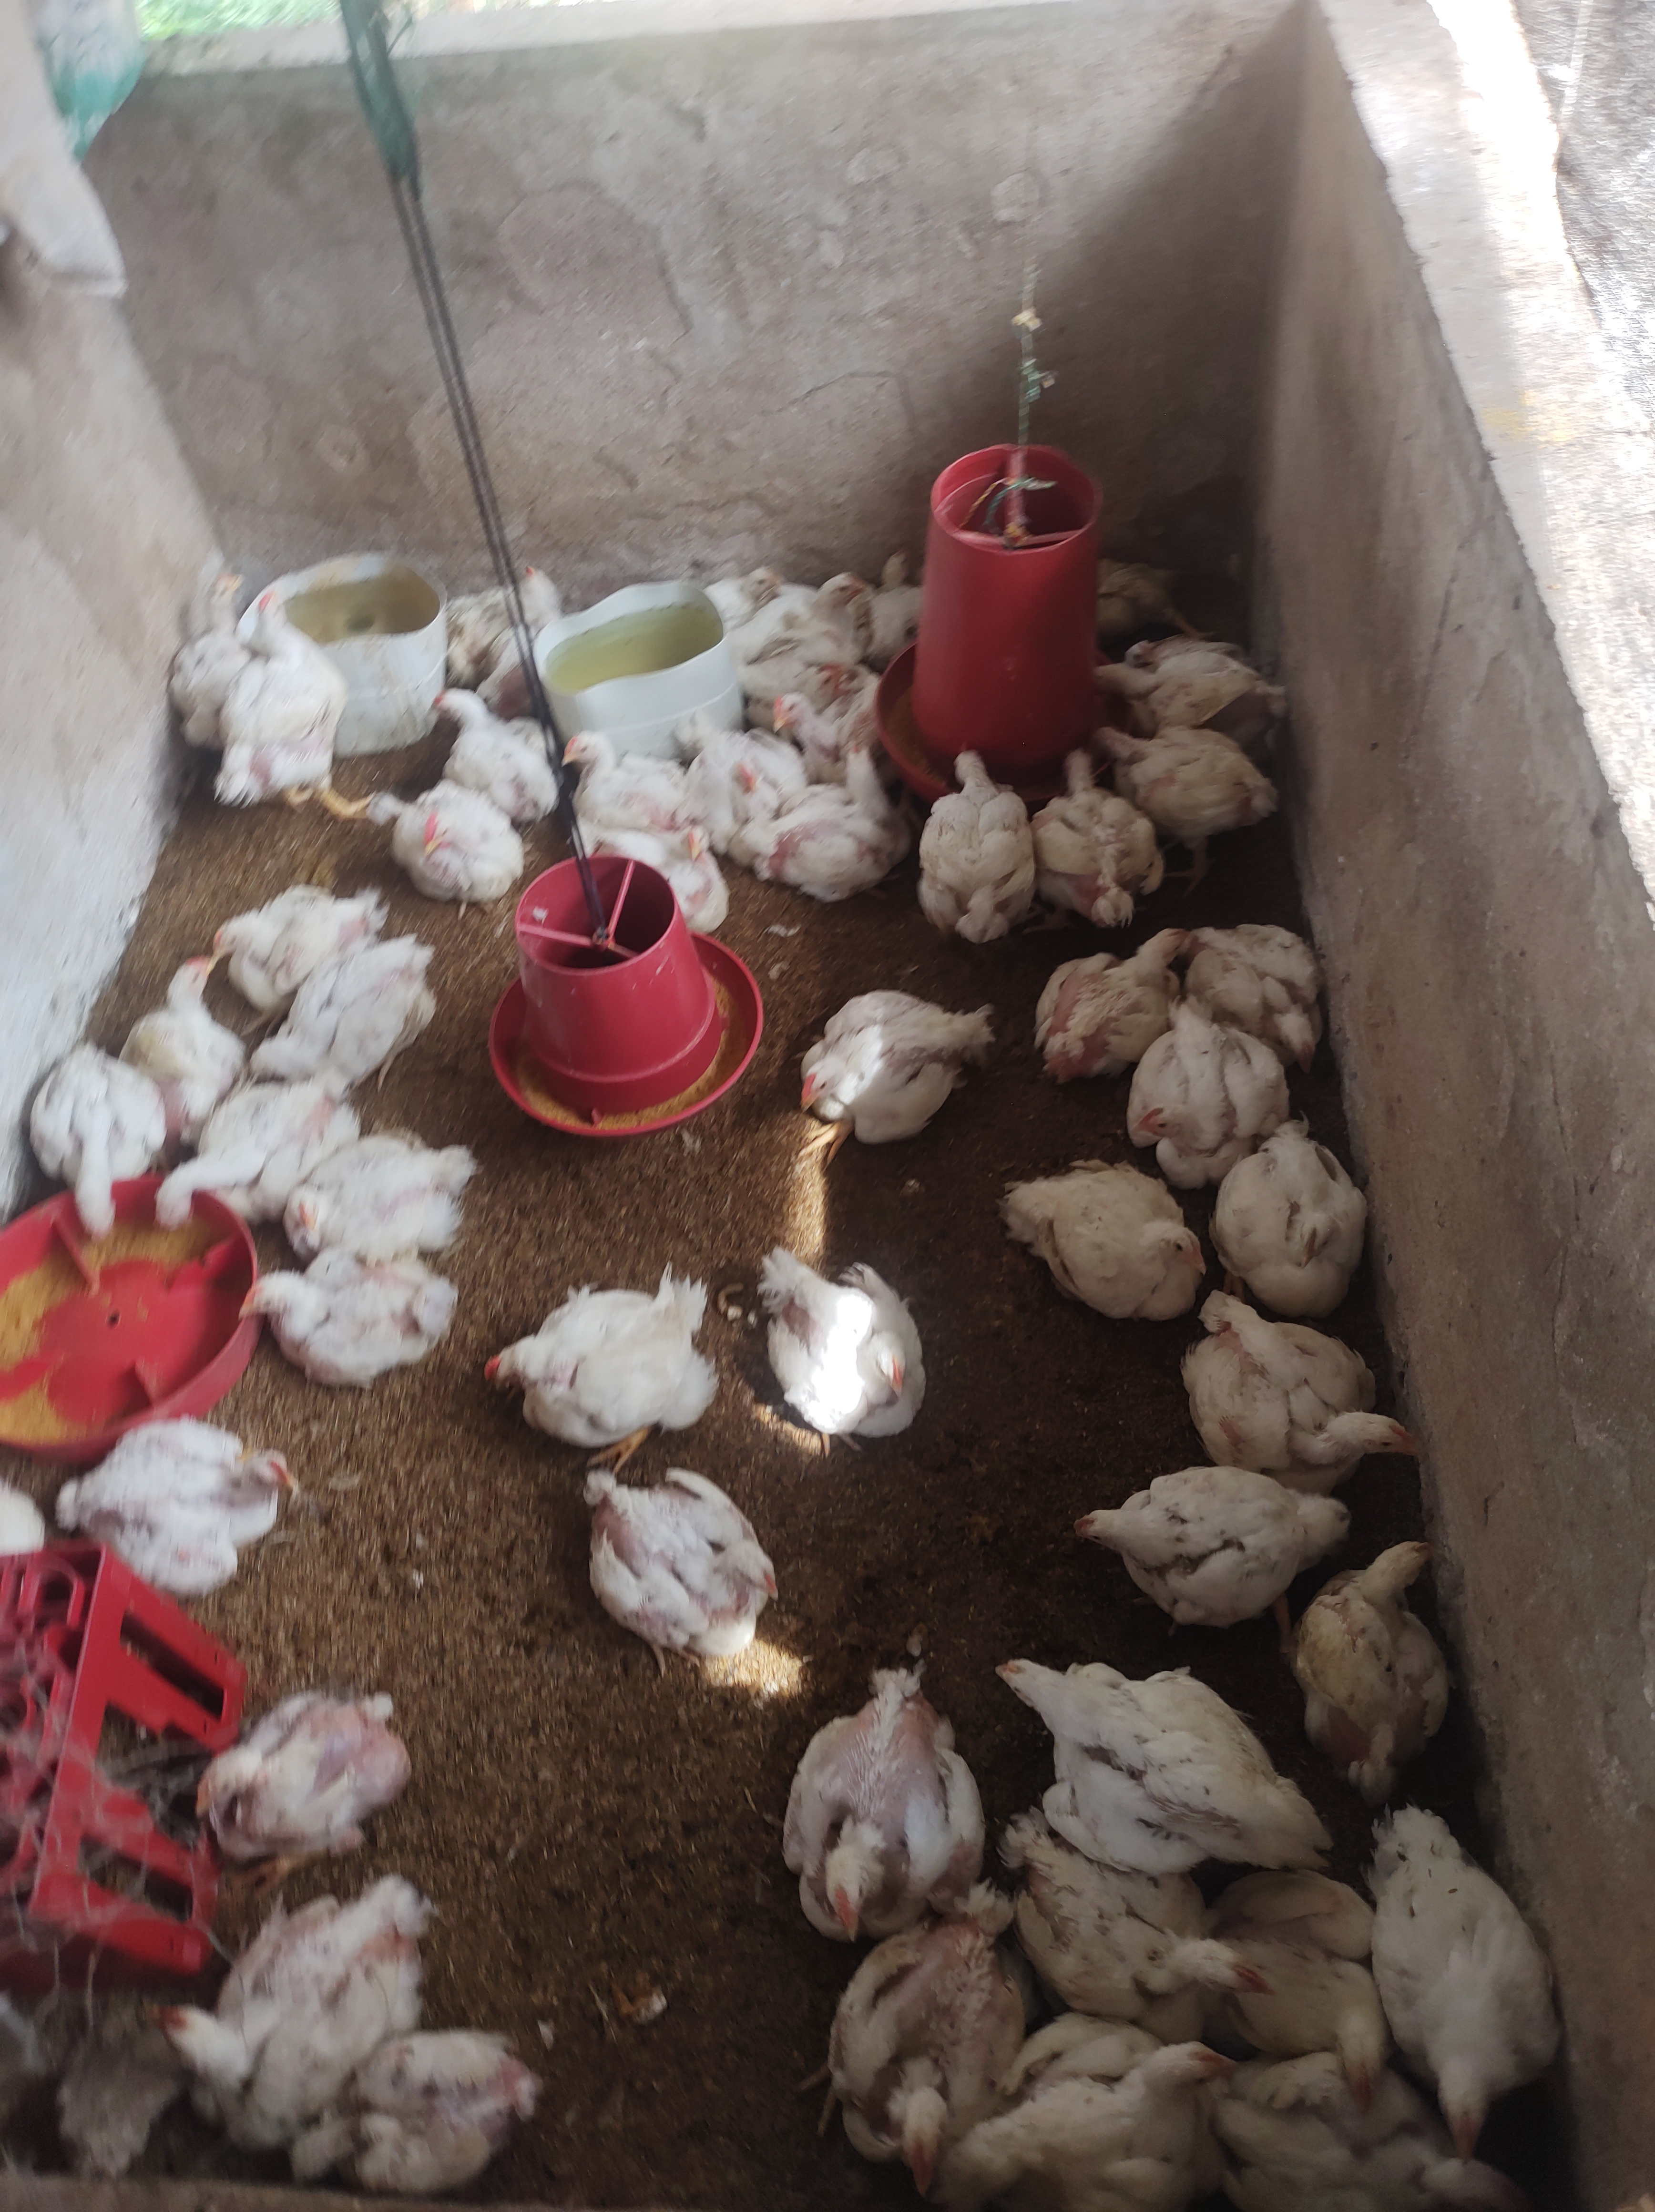Pollos: (1347, 1800, 1618, 2120), (146, 1845, 431, 2122), (1010, 1622, 1311, 1878), (814, 1902, 1026, 2170), (781, 1657, 989, 1922), (996, 1821, 1279, 2009), (942, 2028, 1238, 2207), (1203, 2059, 1530, 2212), (45, 1419, 339, 1584), (567, 1462, 789, 1676), (1193, 1292, 1420, 1499), (475, 1249, 713, 1443), (1066, 1461, 1340, 1628), (297, 2021, 541, 2200), (193, 1668, 433, 1845), (753, 1221, 958, 1424), (1196, 1854, 1392, 2066), (979, 1148, 1203, 1332), (775, 988, 1001, 1155), (1297, 1536, 1466, 1758), (229, 534, 365, 810), (144, 1057, 346, 1229), (3, 1033, 162, 1236), (224, 1247, 447, 1391), (1127, 1003, 1297, 1177), (181, 861, 381, 1007), (1217, 1106, 1377, 1285), (261, 936, 452, 1083), (1097, 725, 1299, 863), (271, 1118, 464, 1256), (1026, 896, 1180, 1063), (1031, 737, 1166, 918), (923, 729, 1033, 944), (760, 750, 904, 896), (568, 824, 739, 948), (367, 772, 525, 901), (120, 960, 240, 1129), (494, 546, 622, 689), (1087, 633, 1285, 723), (1189, 903, 1335, 1024), (431, 689, 562, 823), (681, 685, 801, 821), (156, 555, 250, 715), (555, 711, 673, 828), (1085, 550, 1213, 635), (758, 570, 864, 661), (763, 670, 821, 743), (715, 562, 786, 614), (810, 652, 871, 703), (876, 541, 939, 579), (1127, 638, 1153, 682)
